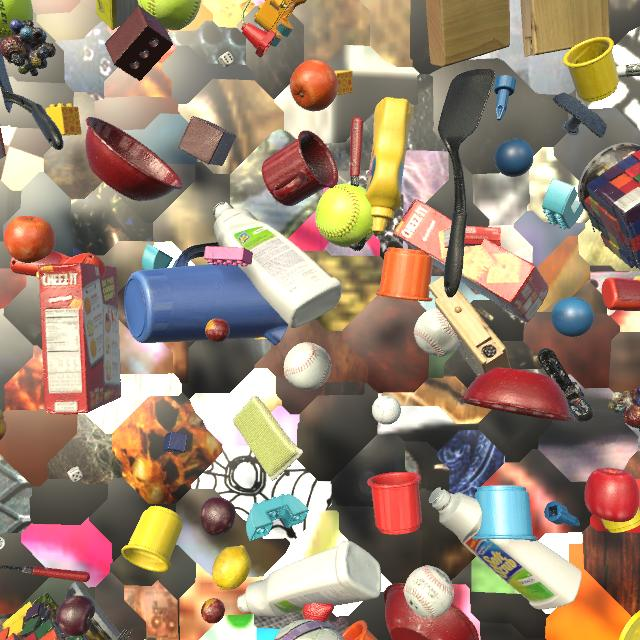ycb_003_cracker_box: (393, 199, 549, 322), (38, 263, 121, 415)
ycb_004_sugar_box: (96, 0, 139, 30)
ycb_006_mustard_bottle: (365, 97, 413, 234)
ycb_009_gelatin_box: (443, 226, 501, 248), (0, 126, 6, 159)
ycb_012_strawberry: (302, 603, 334, 622)
ycb_013_apple: (584, 468, 639, 522)
ycb_014_lemon: (212, 545, 251, 590)
ycb_015_peach: (0, 410, 7, 440)
ycb_017_orange: (290, 60, 338, 111), (4, 216, 56, 263)
ycb_018_plum: (56, 595, 95, 636), (200, 497, 236, 536)
